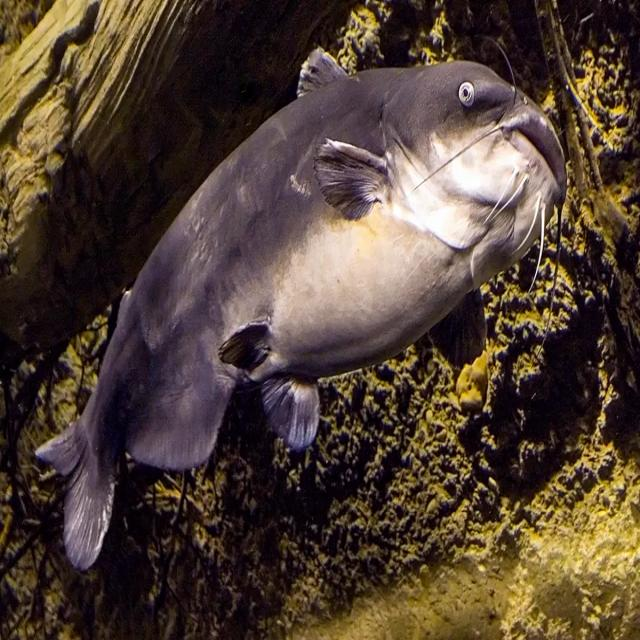Catfish - Blue: (38, 53, 566, 569)
